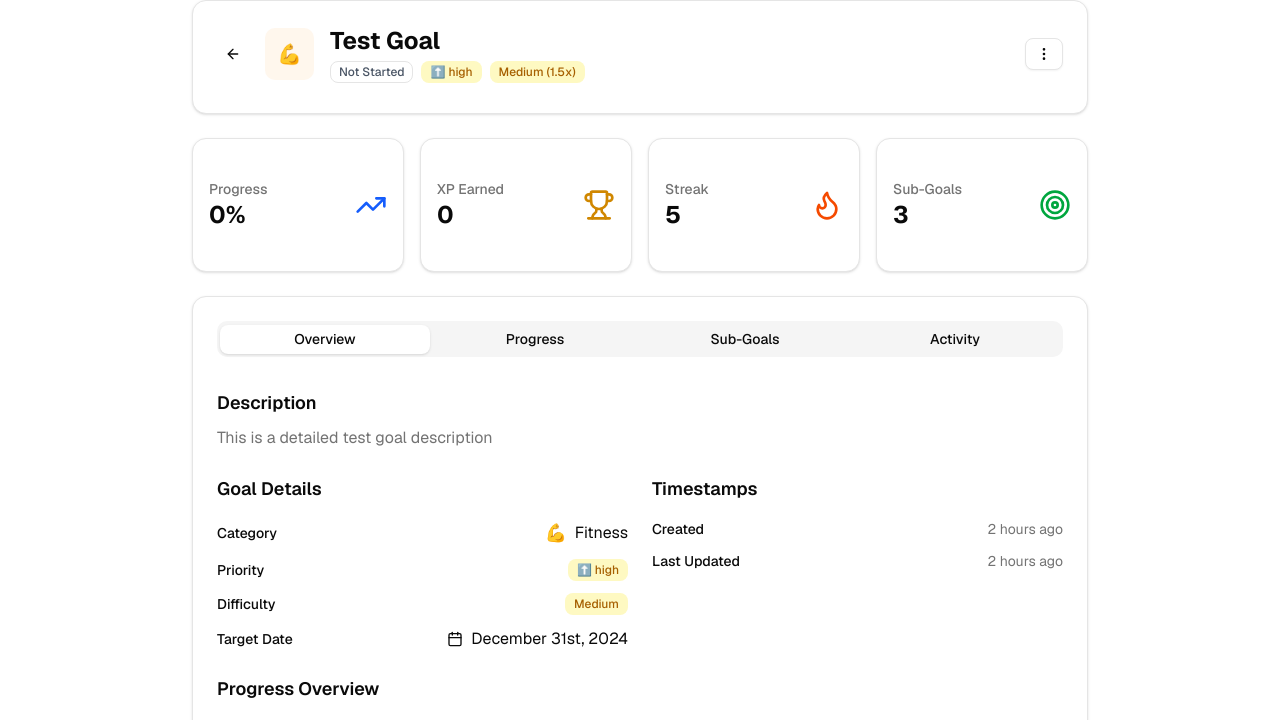
Test: GoalDetail Component › Progress Tab › should show no progress message when no progress entries exist
Step 1. Click the tab "Progress" → (535,339), box [430,324,640,354]
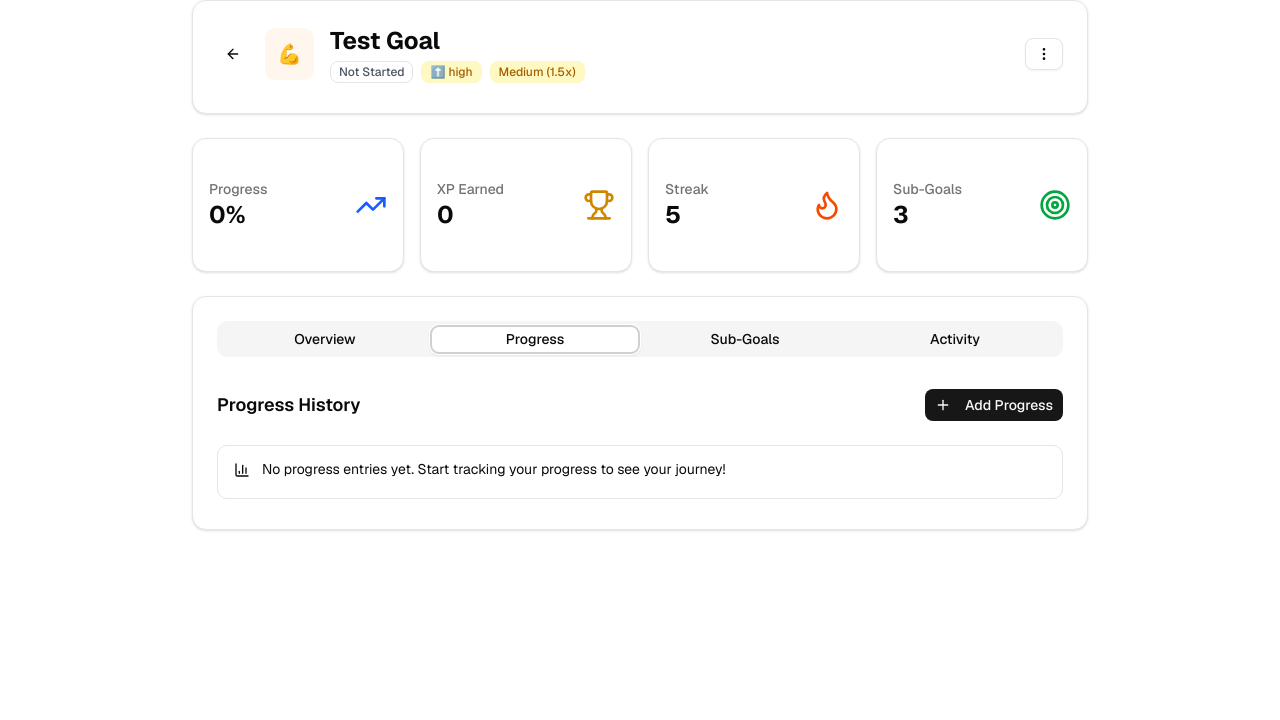
Result: the text "No progress entries yet" is shown at [262,460,726,478]
